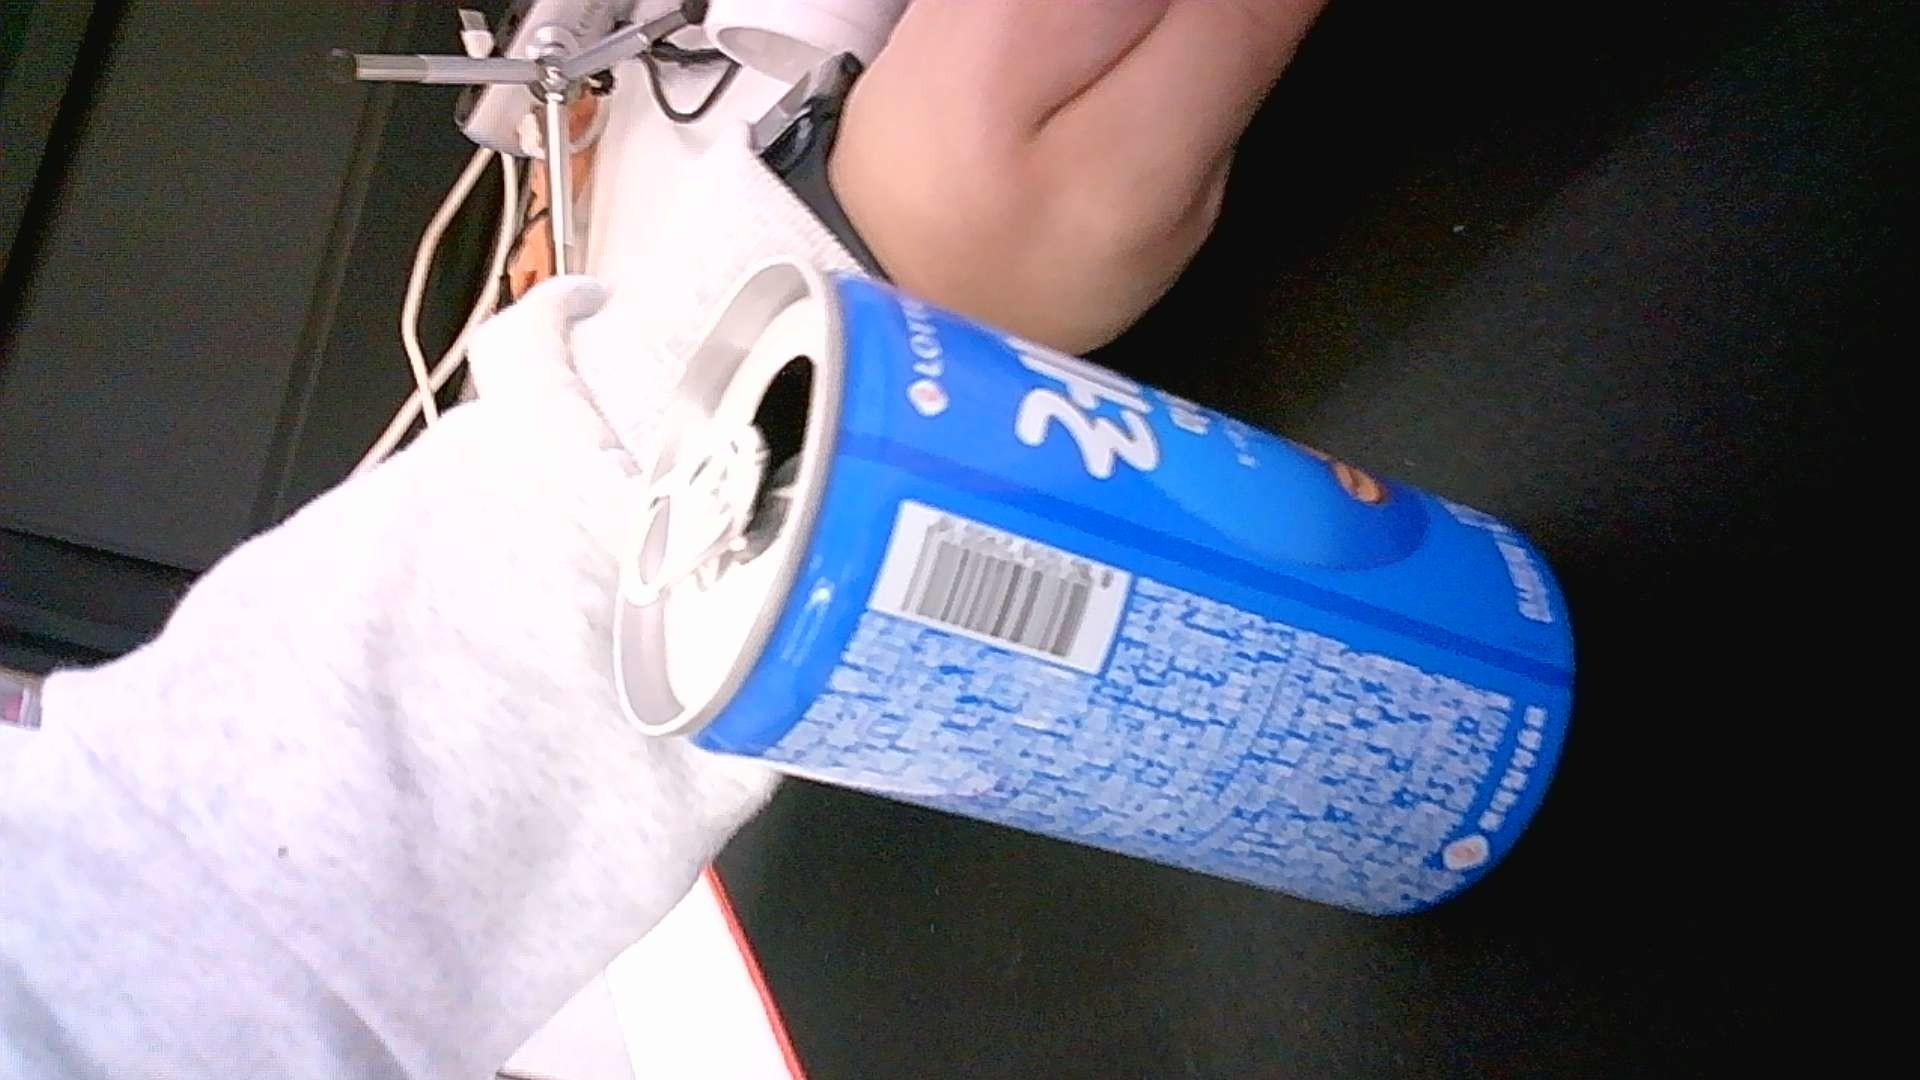letsbe: (612, 256, 1573, 915)
